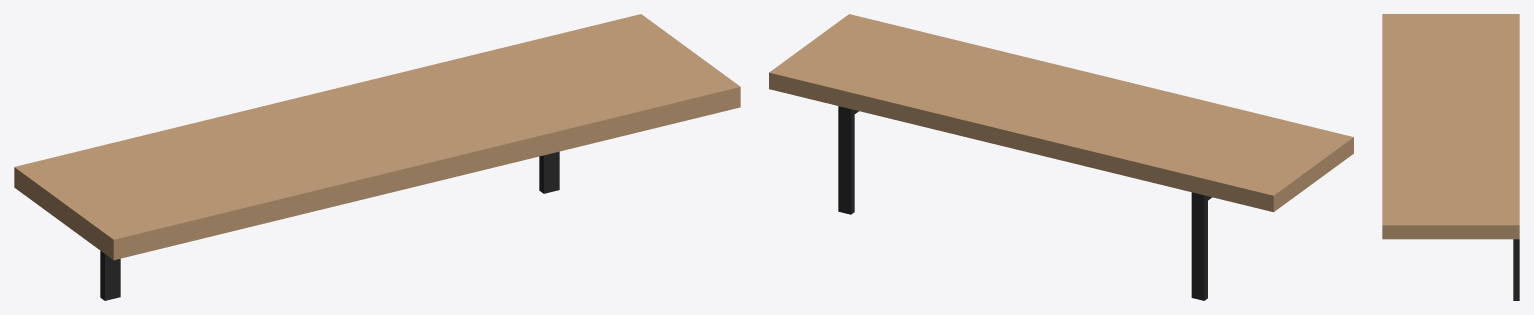
Rendered from wall_shelf.glb.
3 views of the same model, side by side, from view 1: azimuth 30°, elevation 25°; view 2: azimuth 150°, elevation 25°; view 3: azimuth 270°, elevation 25° (orthographic). The views are drawn at different scales.
Visible parts, largest first — view 1: Board, Brackets; view 2: Board, Brackets; view 3: Board, Brackets.
Boxes of the visible parts, x1=… form: Board: x1=14, y1=14, x2=740, y2=260; Brackets: x1=100, y1=151, x2=559, y2=300; Board: x1=769, y1=14, x2=1353, y2=212; Brackets: x1=838, y1=106, x2=1211, y2=300; Board: x1=1382, y1=14, x2=1519, y2=239; Brackets: x1=1513, y1=239, x2=1519, y2=300.
Bounding box in the file's own units: 0.8 × 0.185 × 0.22.
